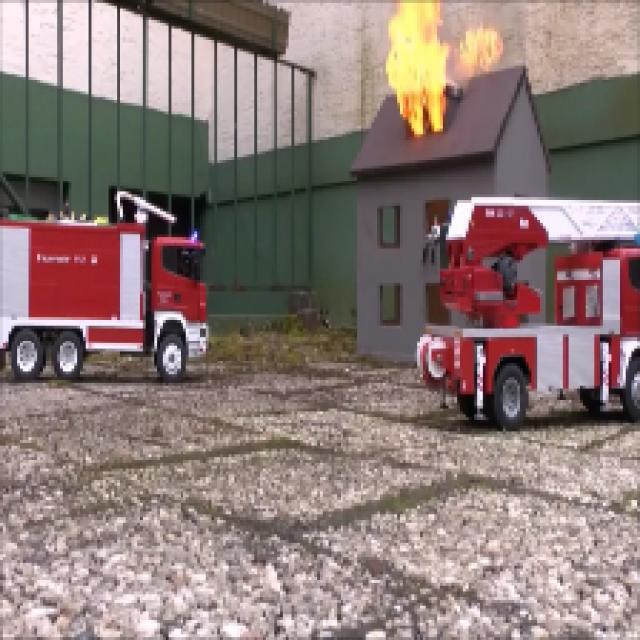Fire: (388, 1, 456, 138)
